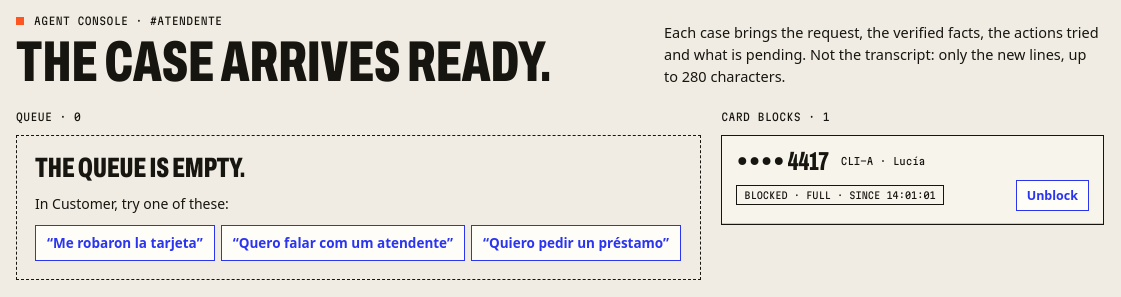
Scenario: Unblock: o bloqueio sai depois da API, e a lista vazia diz que não há cartão bloqueado
Expected: the text "•••• 4417" is shown, 736,148 -> 829,174
Expected: the text "blocked · full · since 14:01:01" is shown, 736,185 -> 944,205
Click the button with aria-label "Unblock BL-00000007".
click(1052, 195)  # box 1016,180 -> 1089,211
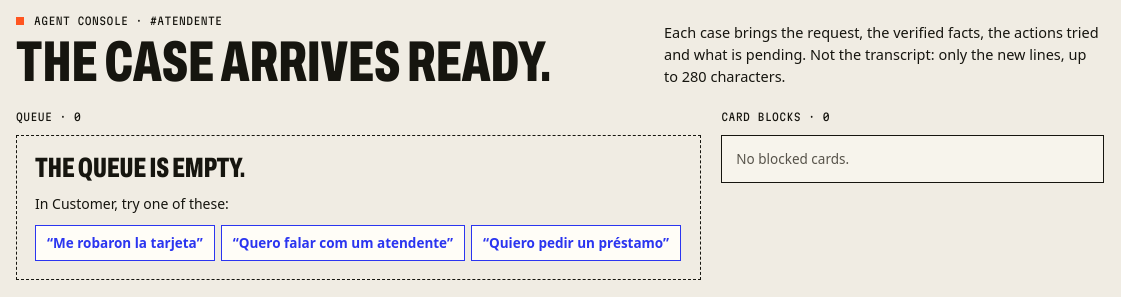
Now the text "No blocked cards." is shown, box 736,150 -> 849,168
